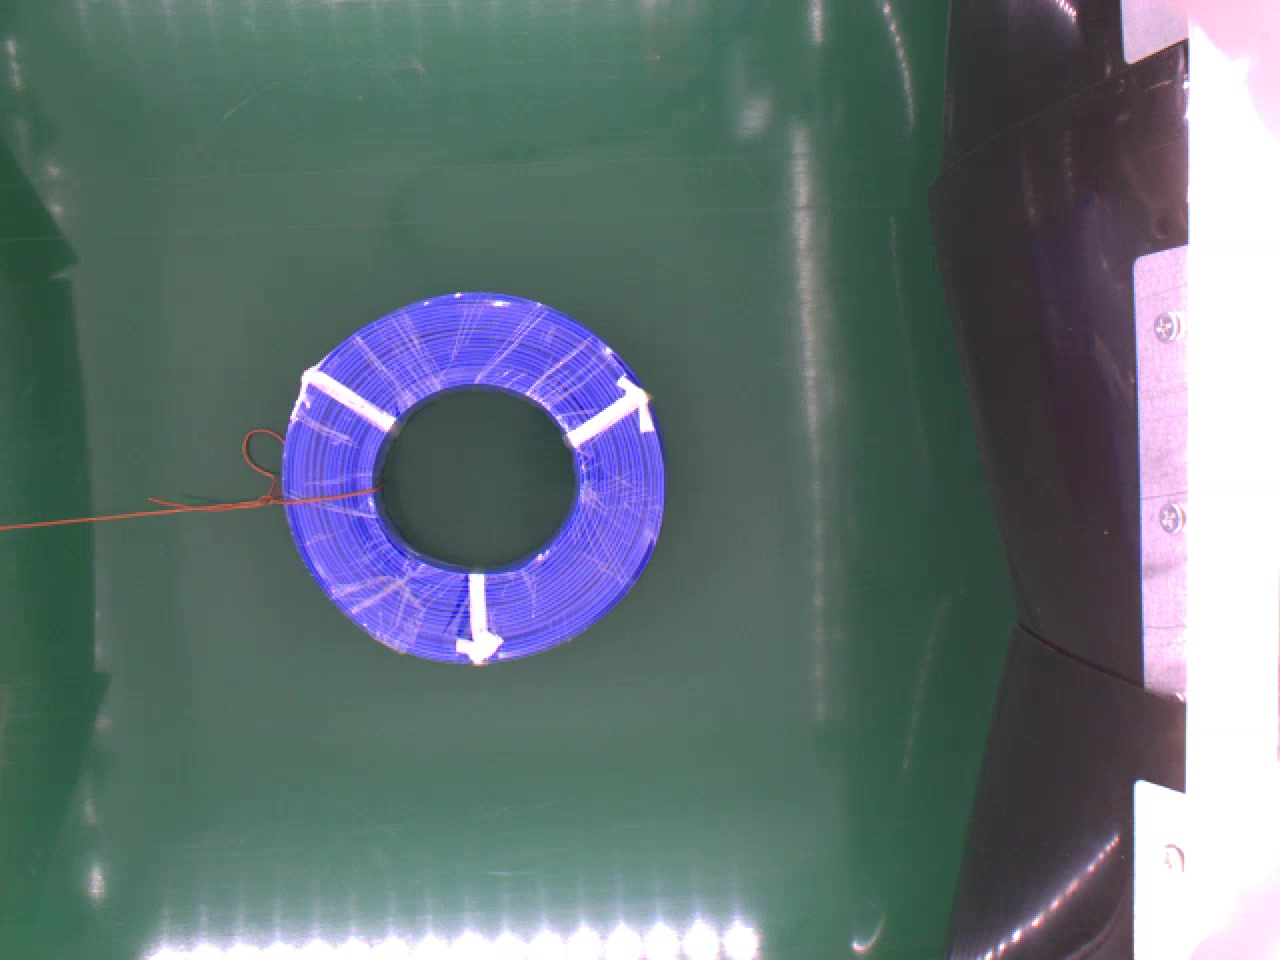blue: (279, 282, 675, 664)
